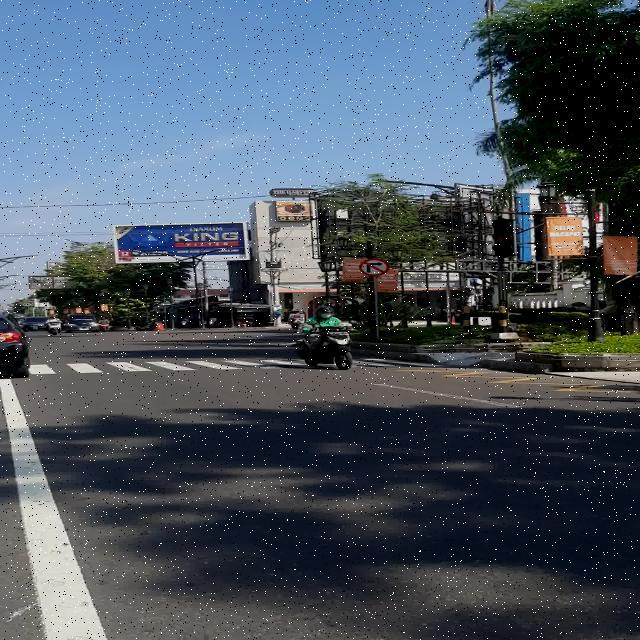Dilarang Belok Kanan: (359, 258, 388, 276)
